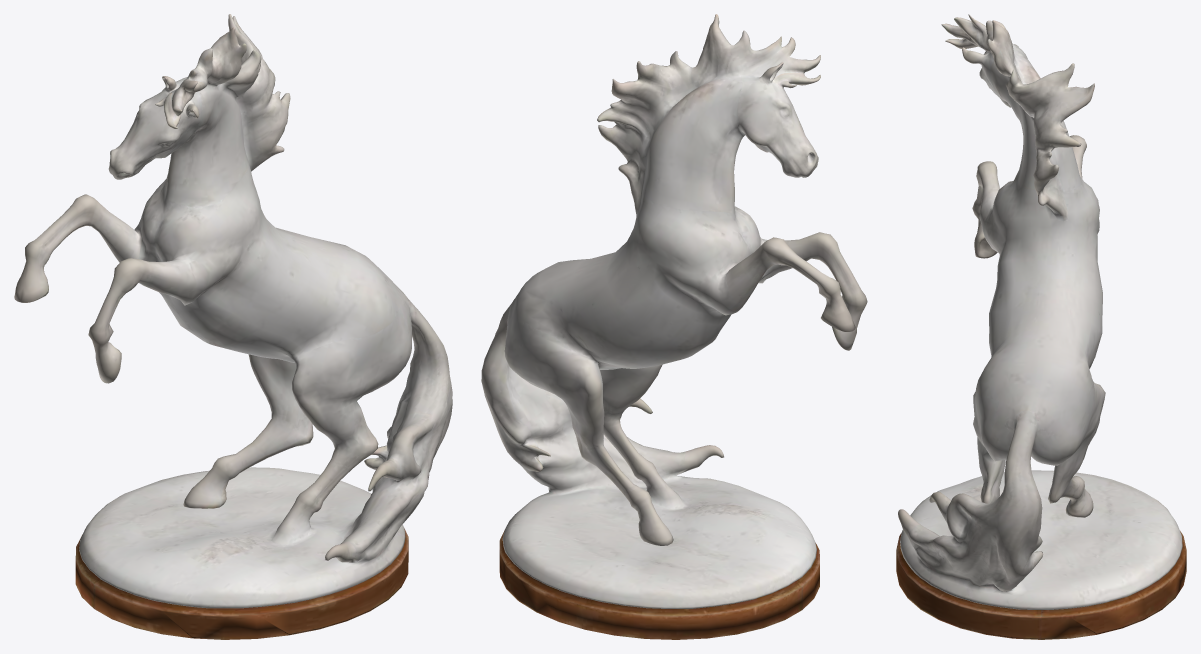
File: horse-statue.glb
The picture shows the model from 3 angles, left to right: view 1: azimuth 30°, elevation 25°; view 2: azimuth 150°, elevation 25°; view 3: azimuth 270°, elevation 25°; orthographic projection. The views are drawn at different scales.
Visible parts, largest first — view 1: horse_statue_01; view 2: horse_statue_01; view 3: horse_statue_01.
Boxes of the visible parts, left/top/right/bottom form: horse_statue_01: left=14, top=14, right=452, bottom=639; horse_statue_01: left=481, top=14, right=867, bottom=639; horse_statue_01: left=896, top=14, right=1186, bottom=639.
Bounding box in the file's own units: 0.1638 × 0.22 × 0.1078.
1 material, 1 textured.
